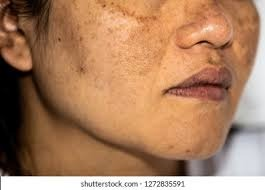Melasma: (79, 0, 165, 79), (185, 0, 224, 37), (237, 11, 258, 65)
